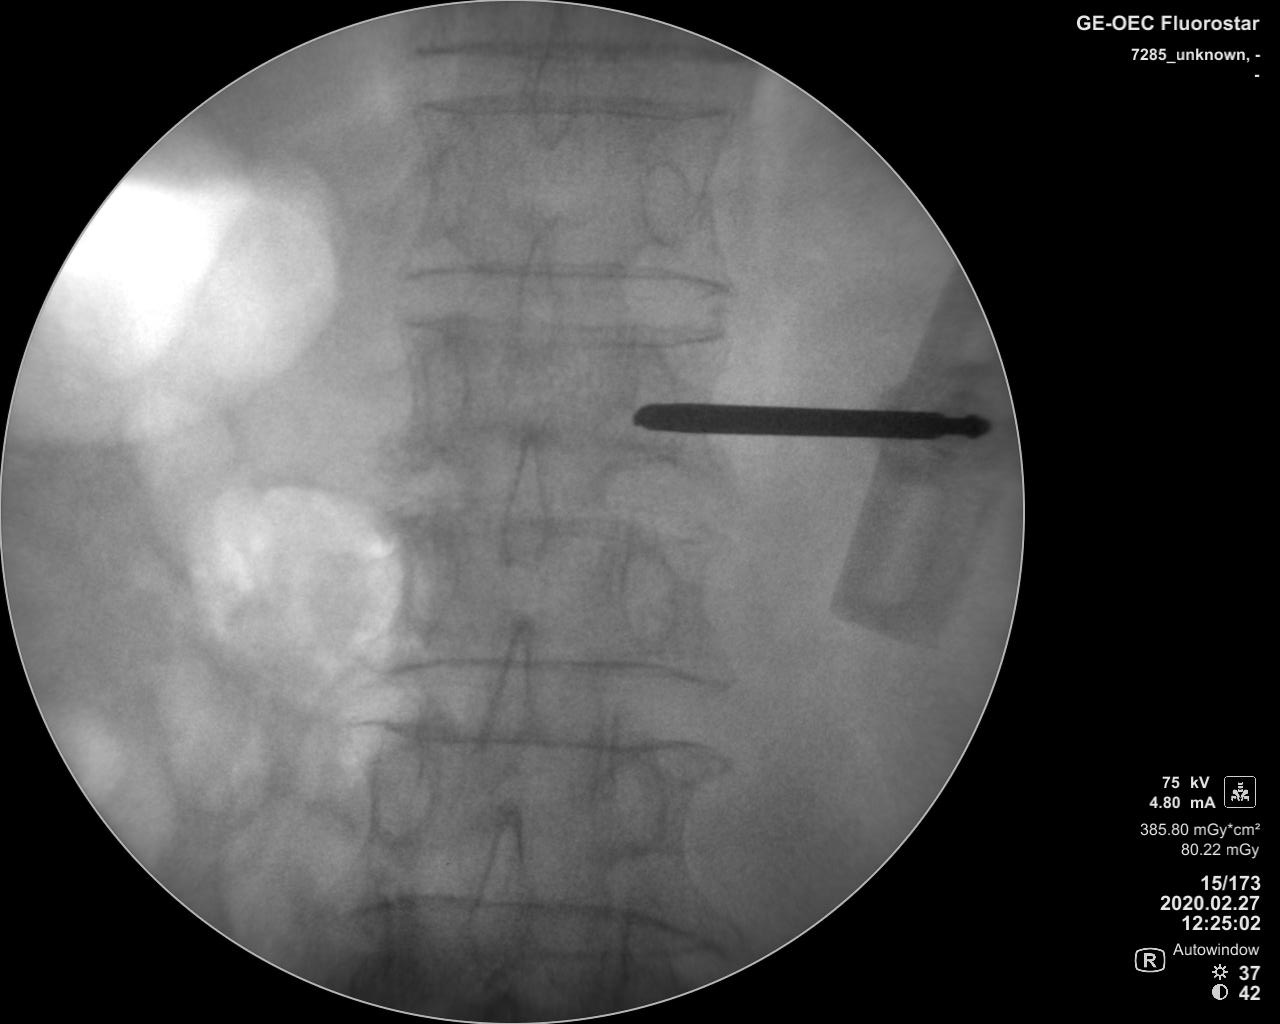eyes: (619, 532, 683, 650), (367, 740, 437, 846), (396, 521, 459, 638), (628, 332, 682, 458), (408, 334, 467, 442), (419, 138, 479, 243), (608, 752, 668, 854), (639, 156, 692, 248)
line: (341, 886, 730, 951), (371, 715, 736, 766), (392, 257, 738, 300), (380, 654, 739, 690), (393, 313, 728, 350), (411, 89, 736, 124), (411, 36, 732, 64)
nose: (459, 798, 531, 983), (476, 614, 543, 782), (492, 427, 554, 573), (529, 8, 578, 153), (515, 230, 562, 368)
